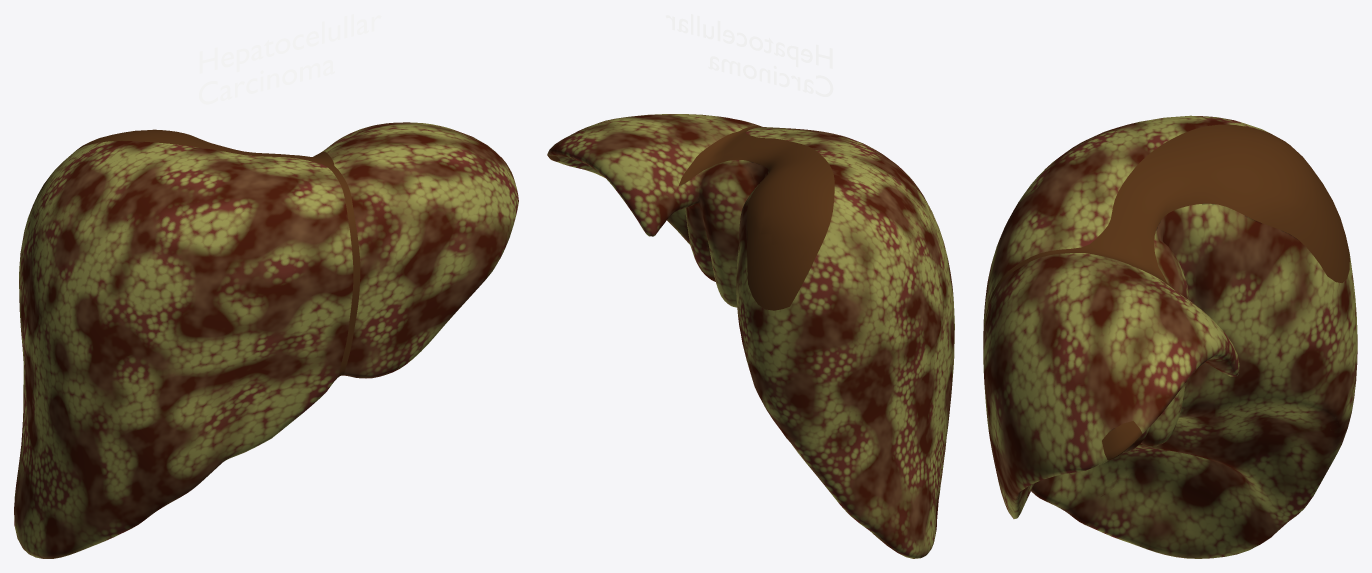
3 renders of one model, left to right at view 1: azimuth 30°, elevation 25°; view 2: azimuth 150°, elevation 25°; view 3: azimuth 270°, elevation 25°, orthographic. The views are drawn at different scales.
Visible parts, largest first — view 1: Liver.005, Text.001; view 2: Liver.005, Text.001; view 3: Liver.005.
Boxes of the visible parts, x1,y1,x2,y2 form: Liver.005: [14, 122, 518, 558]; Text.001: [199, 14, 381, 104]; Liver.005: [547, 114, 954, 558]; Text.001: [665, 14, 833, 96]; Liver.005: [983, 115, 1357, 558].
Size of the model in its own units: 0.4886 by 0.5135 by 0.278.
3 materials, 1 textured.
